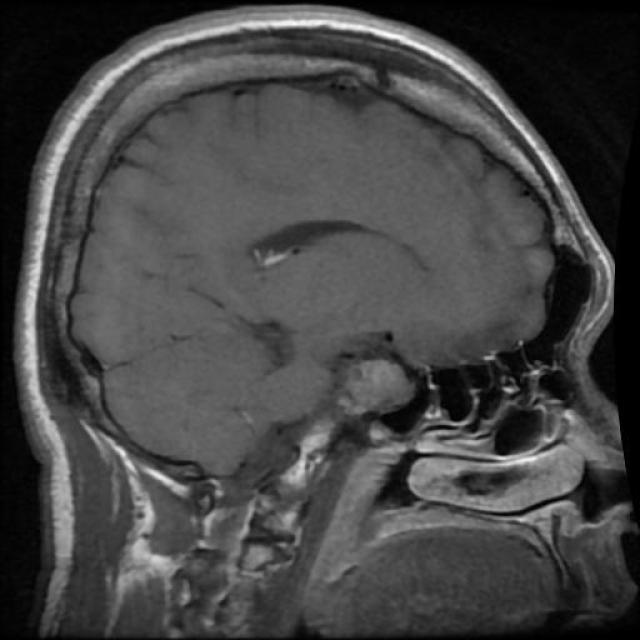pituitary: (310, 331, 427, 454)
